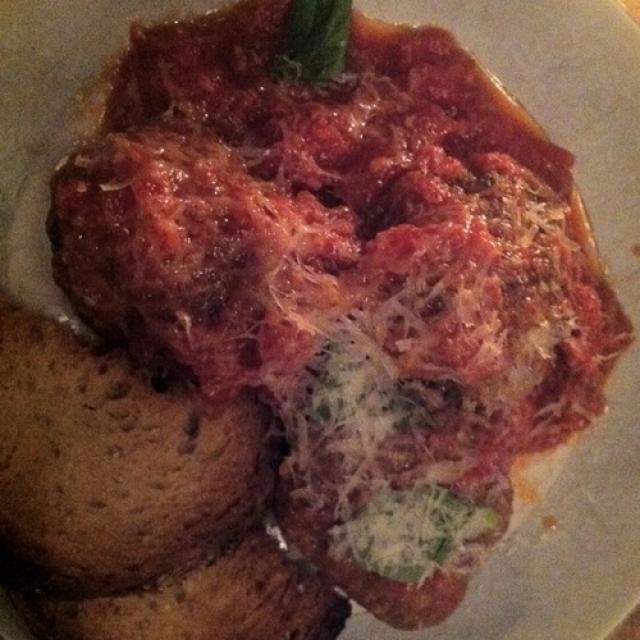牛肉菜式: (37, 32, 603, 608)
